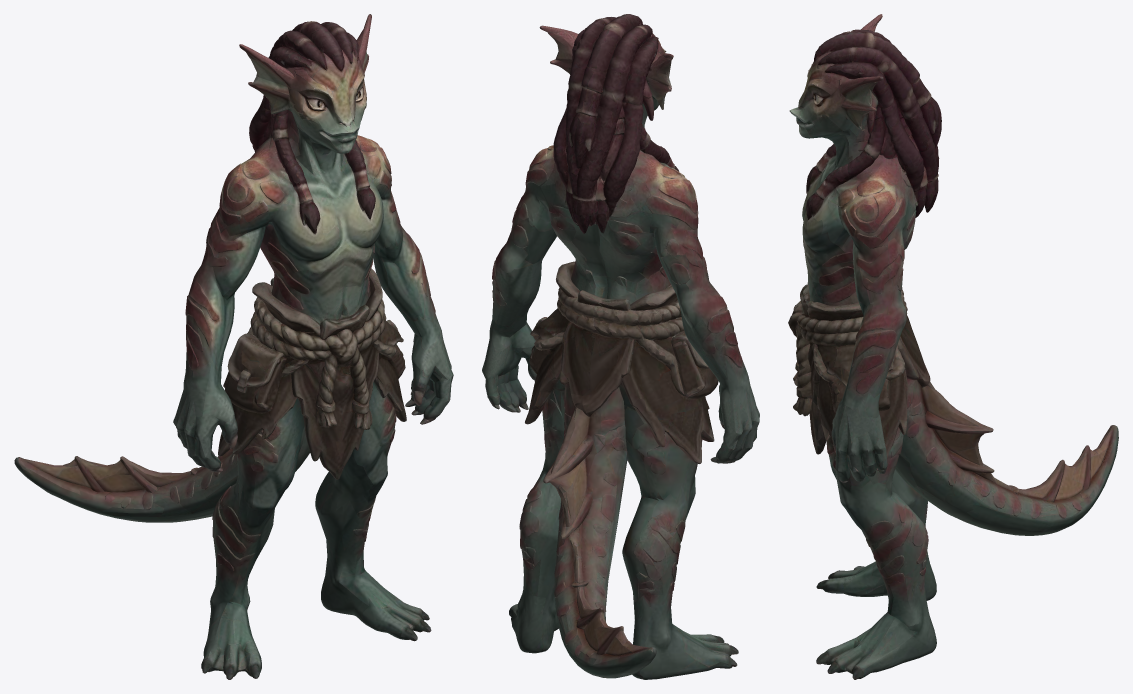
Rendered from fishfolk_huntress.glb.
3 views of the same model, side by side, from view 1: azimuth 30°, elevation 25°; view 2: azimuth 150°, elevation 25°; view 3: azimuth 270°, elevation 25° (orthographic). The views are drawn at different scales.
Visible parts, largest first — view 1: Mesh_0; view 2: Mesh_0; view 3: Mesh_0.
Boxes of the visible parts, x1=… form: Mesh_0: x1=14, y1=14, x2=453, y2=679; Mesh_0: x1=482, y1=14, x2=759, y2=679; Mesh_0: x1=788, y1=14, x2=1118, y2=679.
Size of the model in its own units: 0.9623 by 1.9 by 0.955.
Materials: 1 (1 with a texture image).
